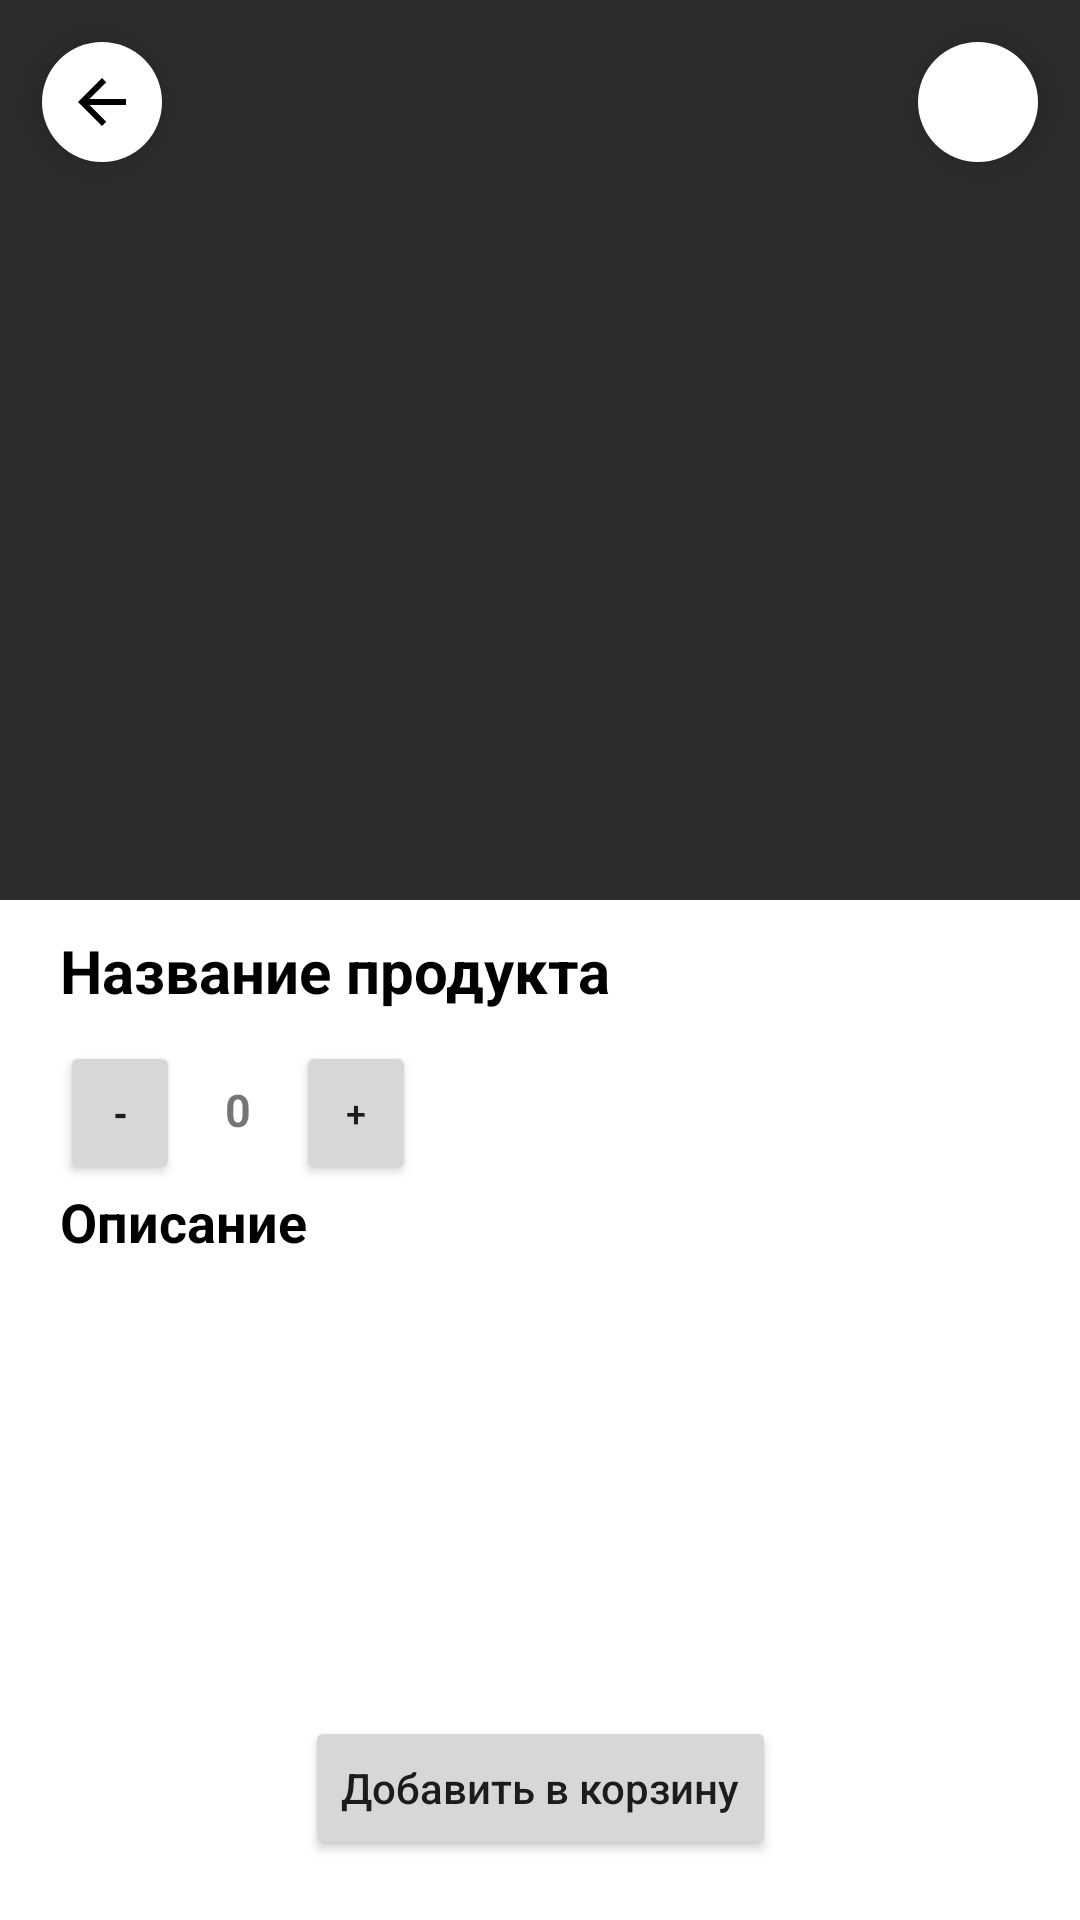

Screen size 1080 x 1920. Icon name, then its box in pixels as [x1, y1, x2, y2]:
back: [42, 42, 162, 162]
